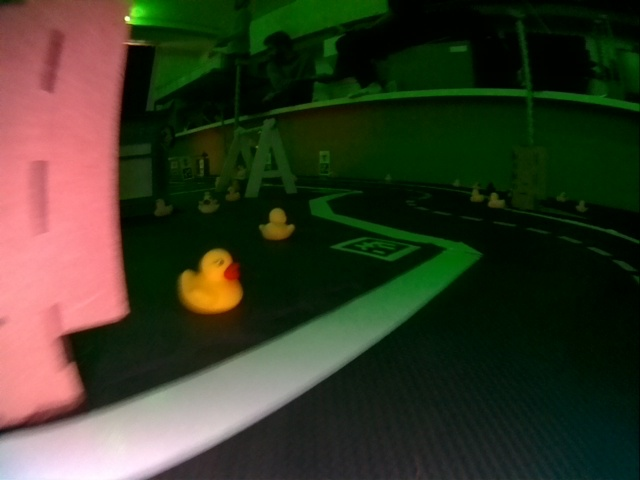Duckie: (178, 248, 242, 312), (259, 207, 293, 238), (154, 198, 173, 216), (200, 196, 216, 212), (490, 193, 504, 208), (471, 188, 483, 199), (227, 188, 238, 199), (577, 199, 586, 209), (558, 194, 565, 200)
QR code: (337, 236, 414, 261)
